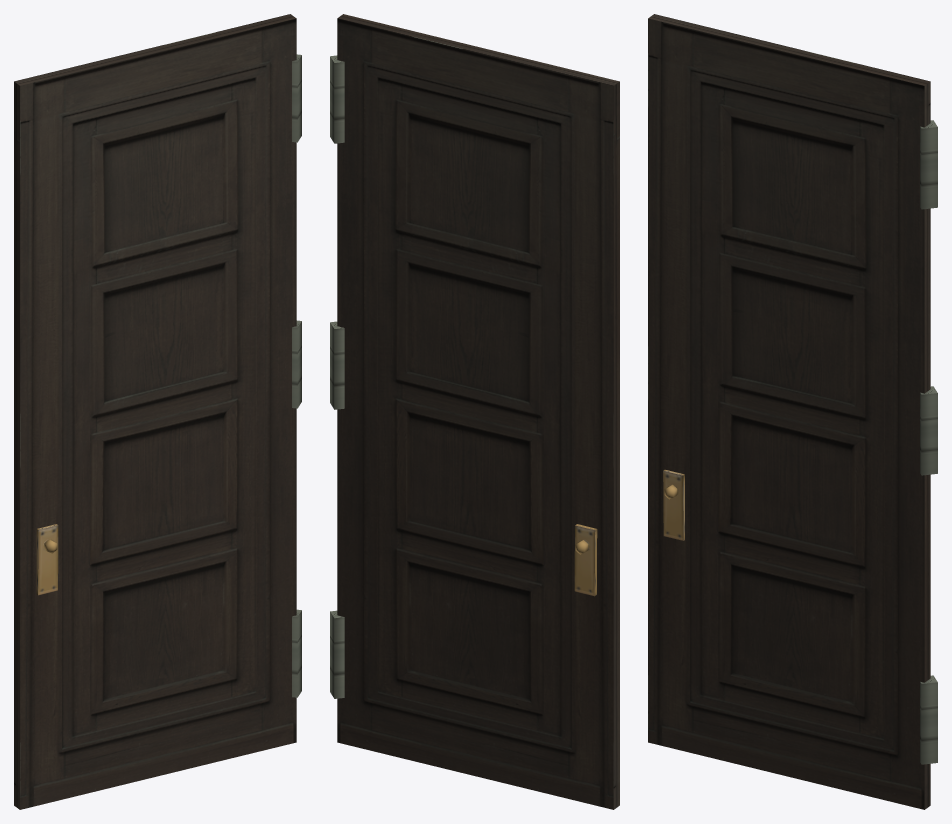
The model's file is Door.FBX.
3 views of the same model, side by side, from view 1: azimuth 30°, elevation 25°; view 2: azimuth 150°, elevation 25°; view 3: azimuth 330°, elevation 25° (orthographic).
Visible parts, largest first — view 1: Doorway; view 2: Doorway; view 3: Doorway.
Part boxes in pixels (x1,y1,x2,y2): Doorway: (14, 14, 301, 809); Doorway: (330, 14, 619, 809); Doorway: (648, 14, 937, 809).
Size of the model in its own units: 1.08 by 2.61 by 0.1444.
